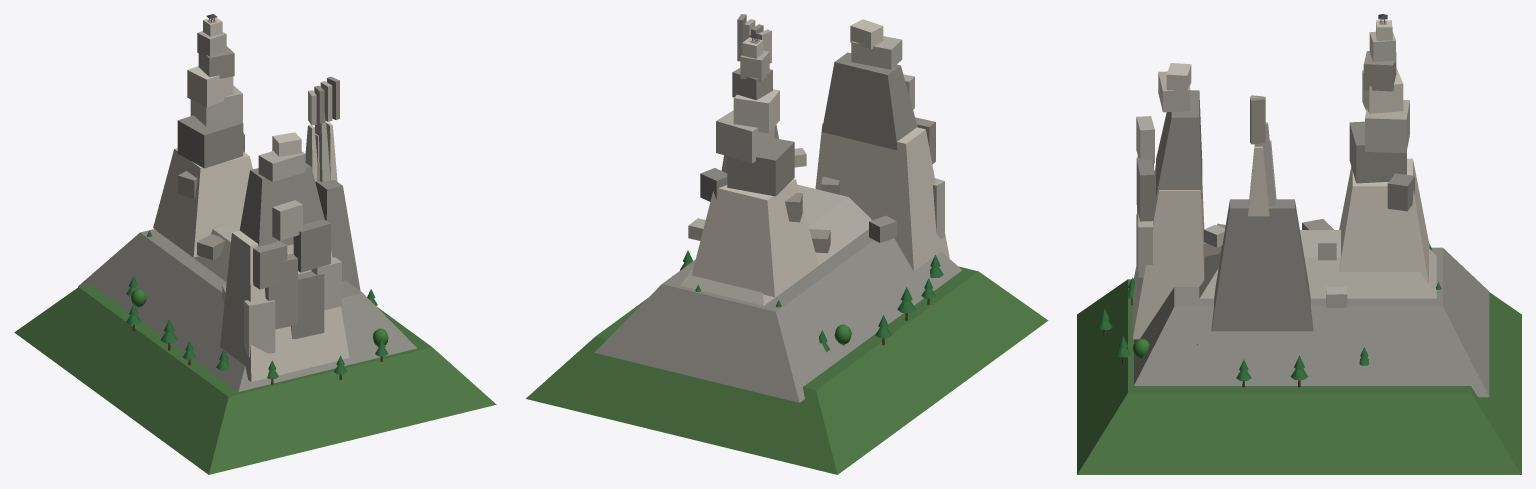
The model's file is dobongsan-jaunbong.glb.
3 views of the same model, side by side, from view 1: azimuth 30°, elevation 25°; view 2: azimuth 150°, elevation 25°; view 3: azimuth 270°, elevation 25° (orthographic). The views are drawn at different scales.
Size of the model in its own units: 82 by 89.6 by 96.
